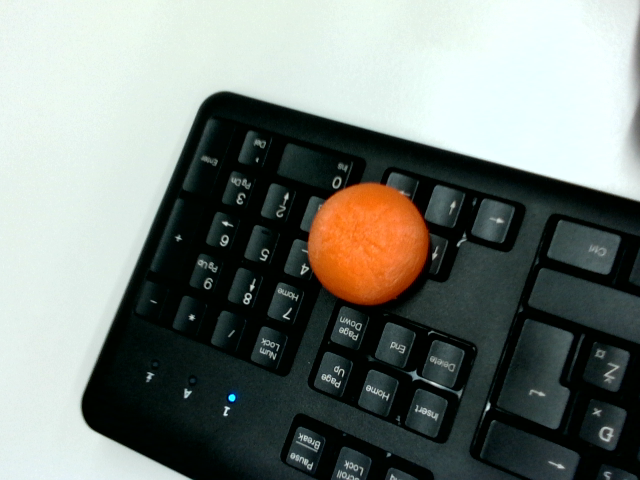orange: (283, 159, 451, 328)
